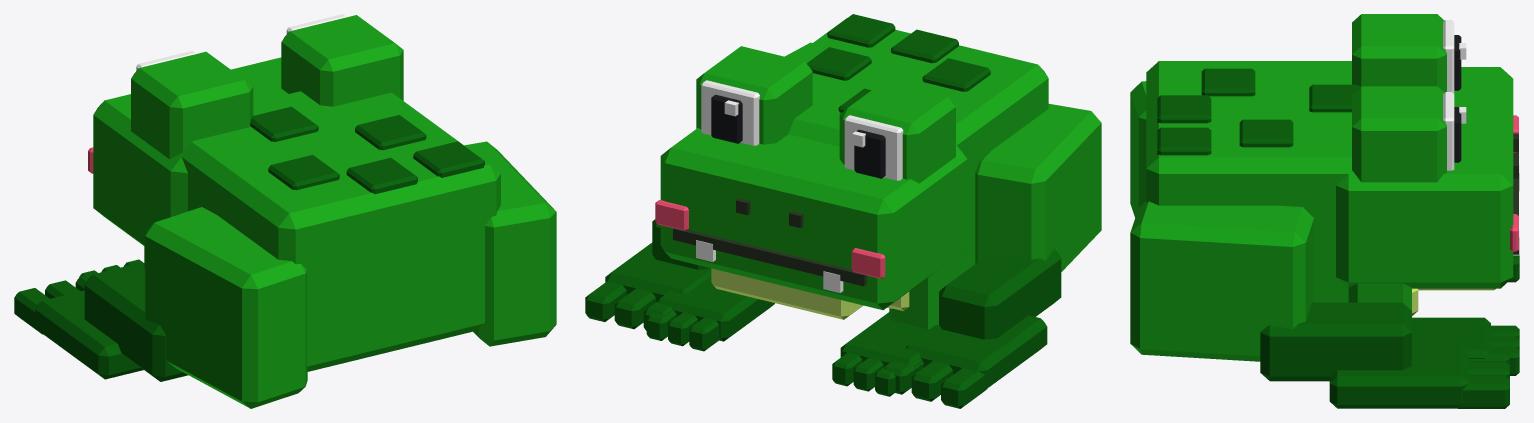
File: Frog.fbx
3 renders of one model, left to right at view 1: azimuth 30°, elevation 25°; view 2: azimuth 150°, elevation 25°; view 3: azimuth 270°, elevation 25°, orthographic. The views are drawn at different scales.
Visible parts, largest first — view 1: Frog; view 2: Frog; view 3: Frog.
Boxes of the visible parts, box(x1,y1,x2,y2) form: Frog: box(14, 14, 556, 408); Frog: box(585, 14, 1101, 408); Frog: box(1130, 14, 1519, 408).
Bounding box in the file's own units: 720 × 435 × 615.
